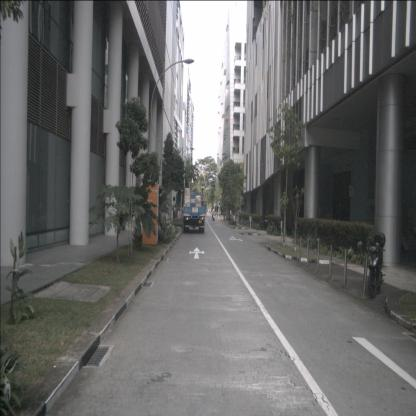human-pedestrian-adult: (211, 208, 215, 222), (173, 205, 176, 218), (176, 205, 178, 219), (175, 205, 177, 218)
vehicle-car: (212, 205, 219, 213)
vehicle-motorcycle: (365, 232, 386, 299)
vehicle-truck: (182, 192, 206, 233)
